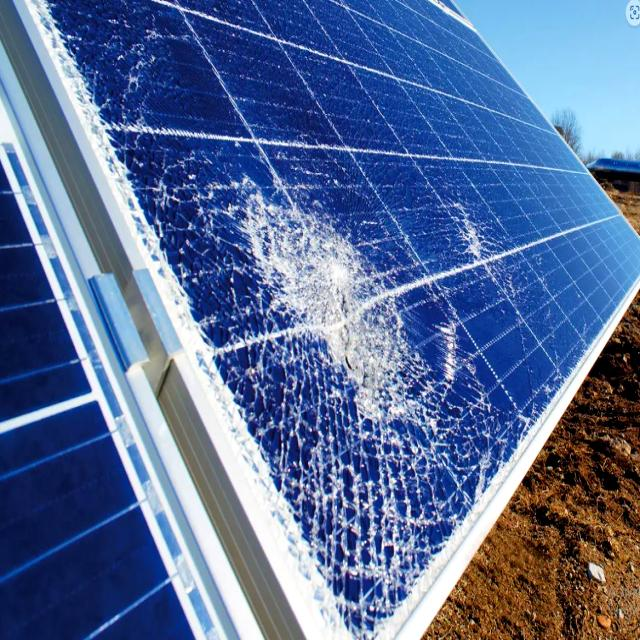hotspot: (230, 172, 418, 420), (453, 187, 515, 293)
